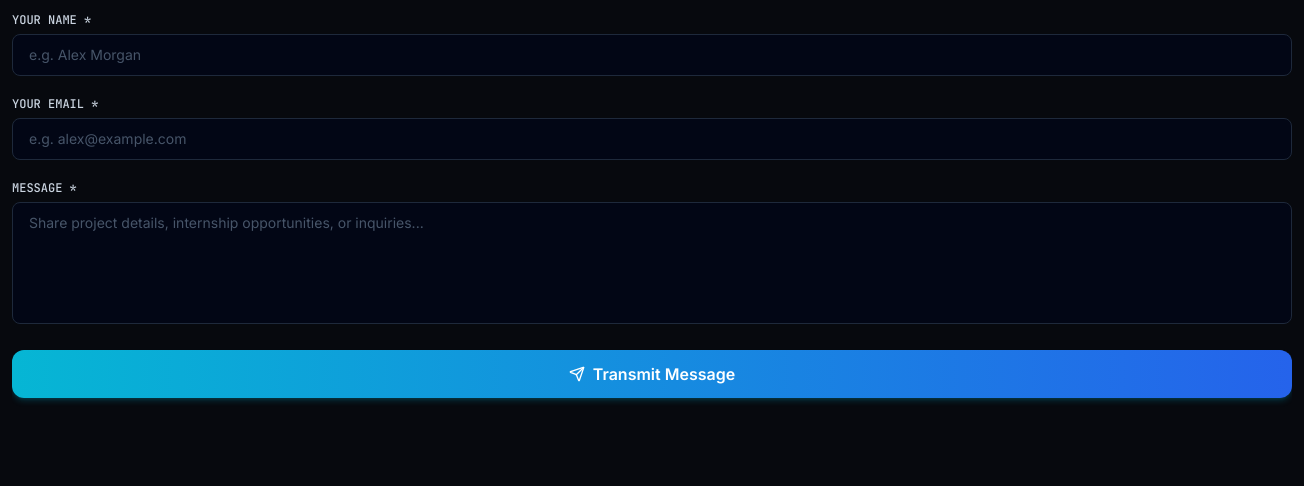
Scenario: ContactForm Component › displays validation errors on empty submission
Click the button "Transmit Message".
click(652, 374)  # box [12,350,1292,398]
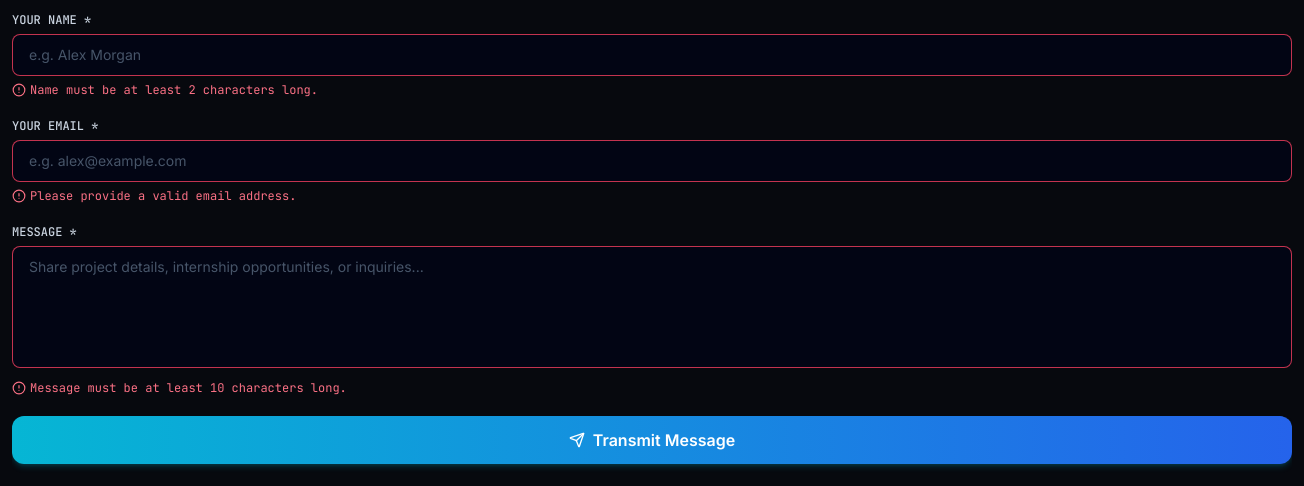
Expected: the text "Name must be at least 2 characters long." is shown, [30,82,318,98]
Expected: the text "Please provide a valid email address." is shown, [30,188,296,204]
Expected: the text "Message must be at least 10 characters long." is shown, [30,380,347,396]
